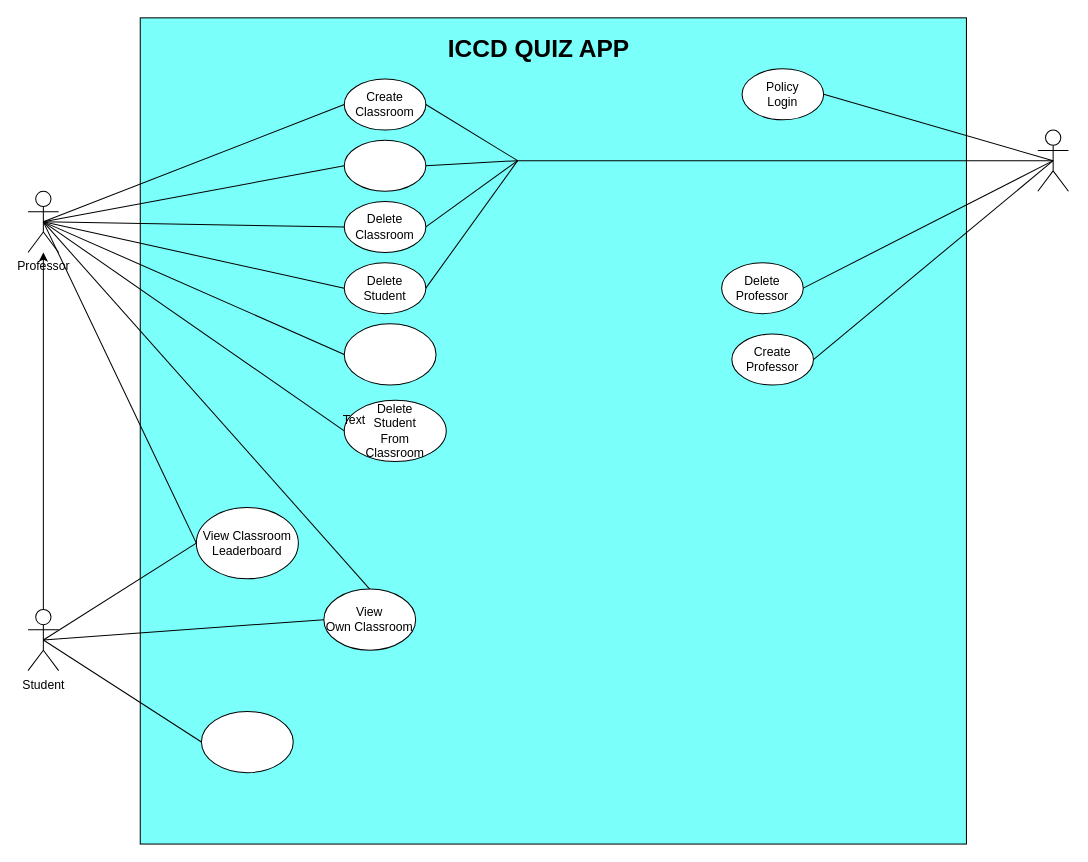
Image size: 1088x862. Some labels were removed from this diagram. The shapes that lost their labels are listed below. From the top down, each one's centre as x and y in pixels, then its label:
At [384,165]: "Create Student".
At [1052,160]: "Admin".
At [389,354]: "Add Student To Classroom".
At [246,741]: "Take Quiz".
